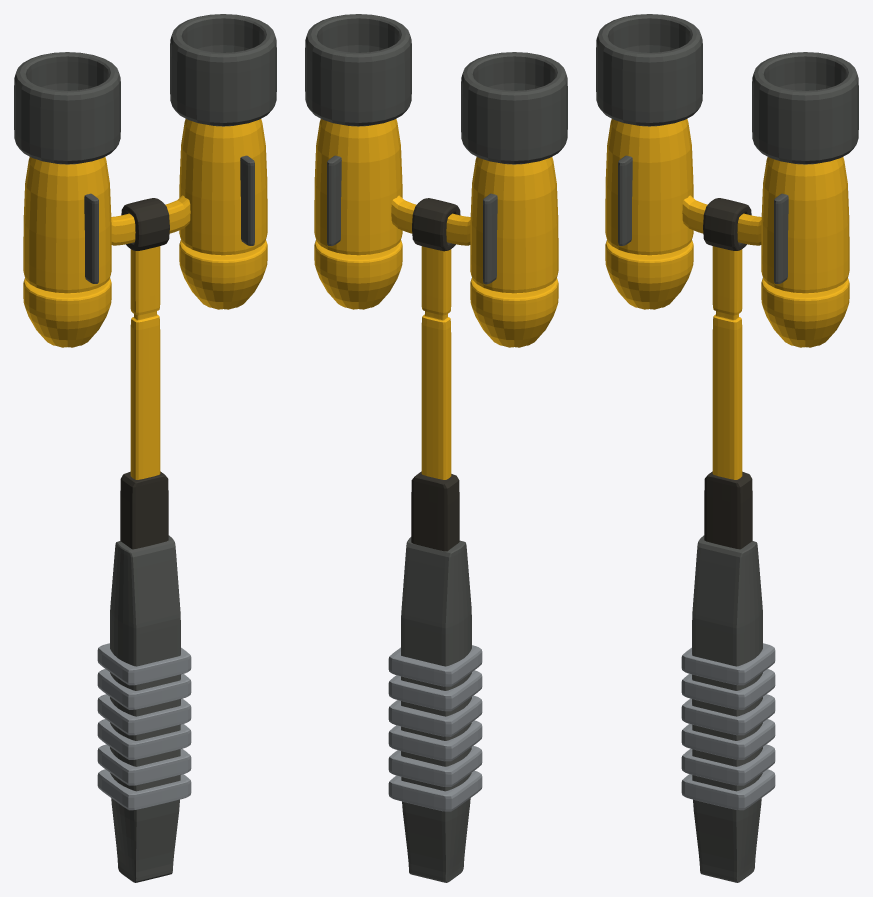
Rendered from wrench.fbx.
3 views of the same model, side by side, from view 1: azimuth 30°, elevation 25°; view 2: azimuth 150°, elevation 25°; view 3: azimuth 330°, elevation 25° (orthographic).
Parts seen in each view (by area): view 1: Cube.002; view 2: Cube.002; view 3: Cube.002.
Boxes of the visible parts, left/top/right/bottom form: Cube.002: left=14, top=14, right=276, bottom=882; Cube.002: left=305, top=14, right=567, bottom=882; Cube.002: left=596, top=14, right=858, bottom=882.
Bounding box in the file's own units: 2.87 × 1.19 × 9.05.
